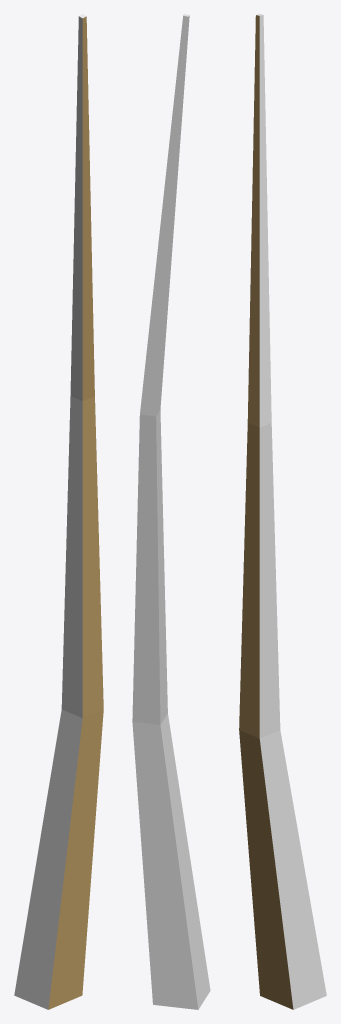
File: Simple_Tree_NoLeaves_s_Snow_03_LOD.fbx
3 views of the same model, side by side, from view 1: azimuth 90°, elevation 25°; view 2: azimuth 210°, elevation 25°; view 3: azimuth 270°, elevation 25° (orthographic). The views are drawn at different scales.
Visible parts, largest first — view 1: Simple_Tree_NoLeaves_s_Snow_03_LOD0; view 2: Simple_Tree_NoLeaves_s_Snow_03_LOD0; view 3: Simple_Tree_NoLeaves_s_Snow_03_LOD0.
Boxes of the visible parts, <box> form: Simple_Tree_NoLeaves_s_Snow_03_LOD0: <box>14,14,103,1009</box>; Simple_Tree_NoLeaves_s_Snow_03_LOD0: <box>132,14,210,1009</box>; Simple_Tree_NoLeaves_s_Snow_03_LOD0: <box>239,14,326,1009</box>.
Size of what is drawn, in the model's own units: 23.88 by 359 by 29.41.
